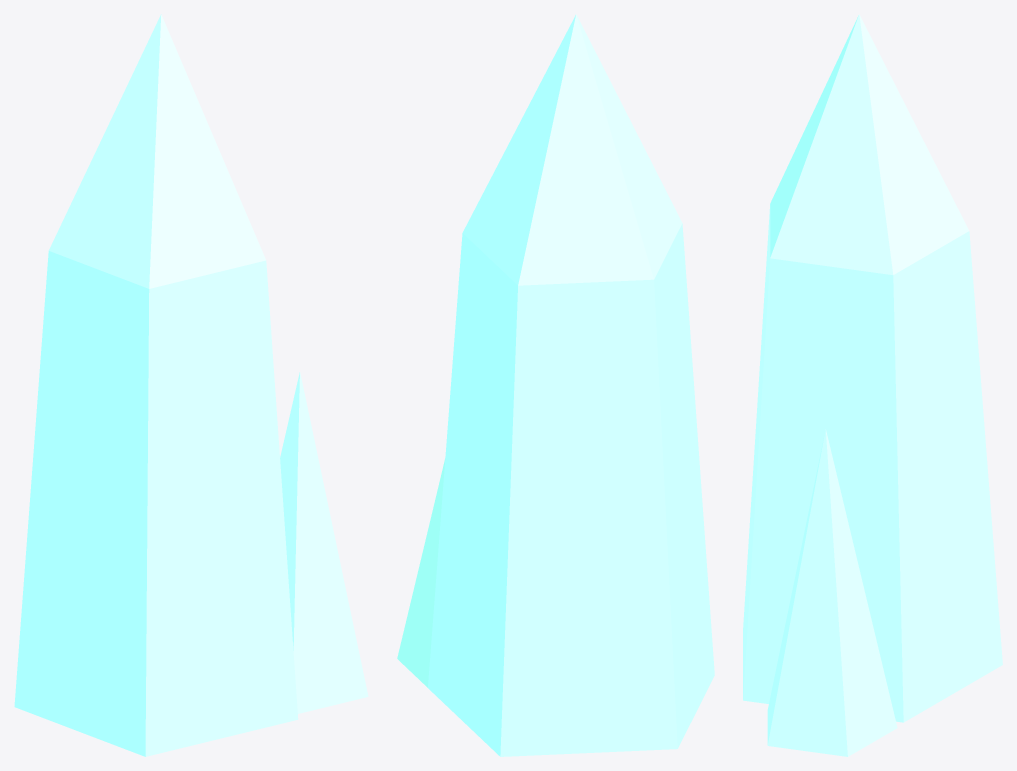
File: env_ore.glb
3 views of the same model, side by side, from view 1: azimuth 30°, elevation 25°; view 2: azimuth 150°, elevation 25°; view 3: azimuth 270°, elevation 25° (orthographic). The views are drawn at different scales.
Visible parts, largest first — view 1: Ore; view 2: Ore; view 3: Ore.
Part boxes in pixels (box(x1,y1,x2,y2)): Ore: box(14, 14, 368, 756); Ore: box(397, 14, 714, 756); Ore: box(743, 14, 1002, 756).
Bounding box in the file's own units: 0.708 × 1.51 × 0.5427.
